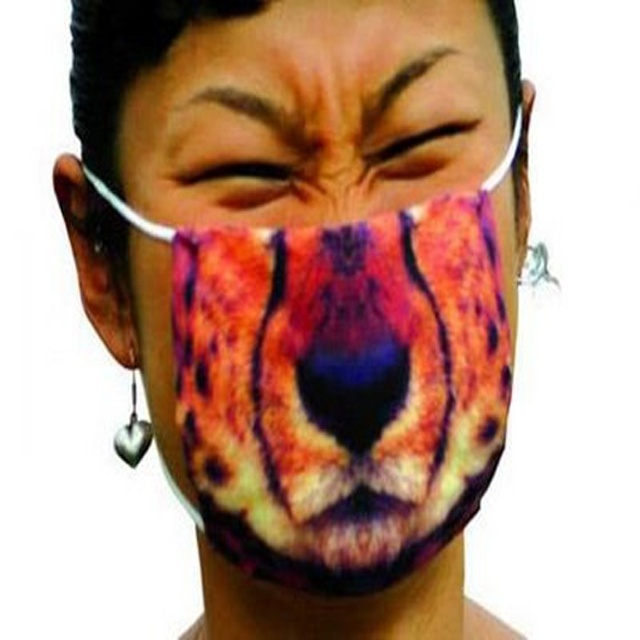mask: (143, 190, 515, 598)
person: (54, 3, 545, 640)
